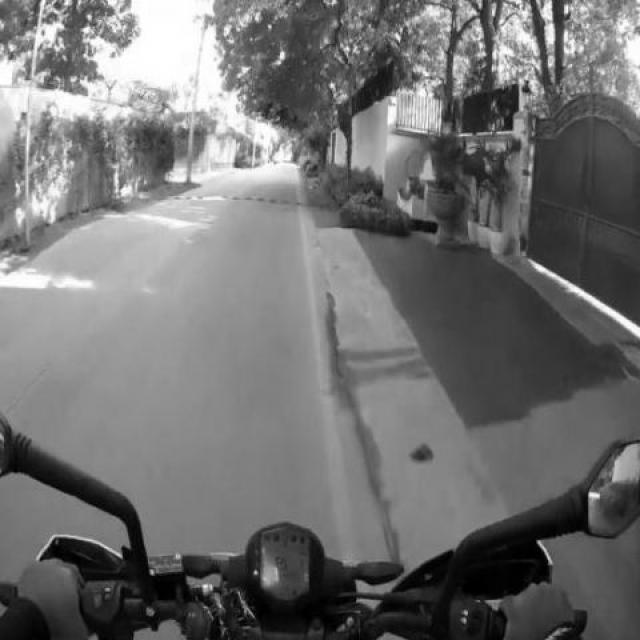Speed Bump: (166, 194, 309, 209)
